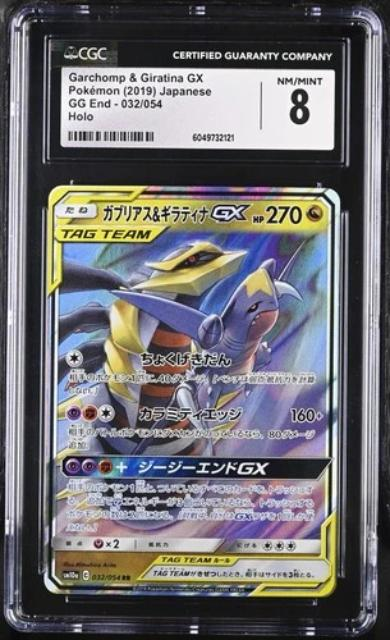Card: (39, 180, 347, 600)
Name: (95, 197, 262, 225)
